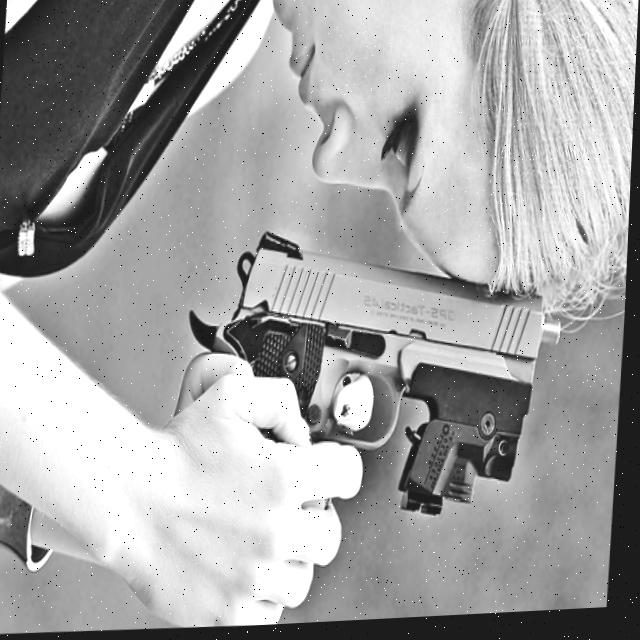pistol: (180, 221, 570, 528)
